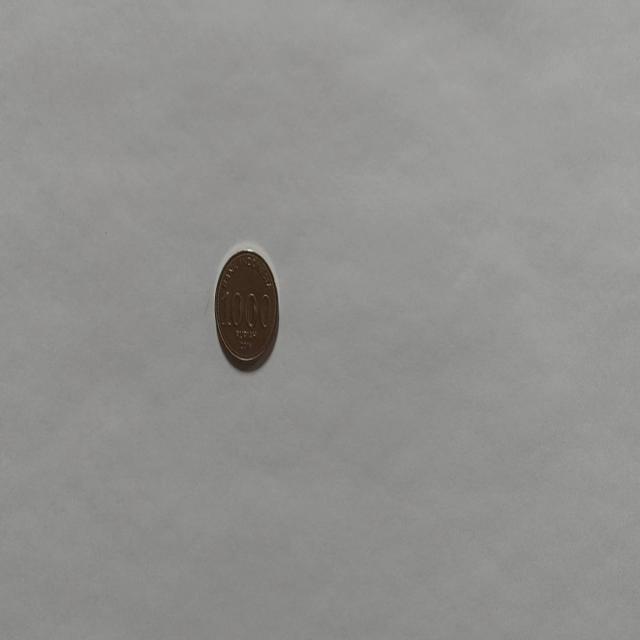seribu rupiah koin: (213, 246, 279, 371)
